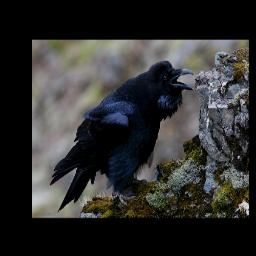Crow: (50, 59, 195, 214)
